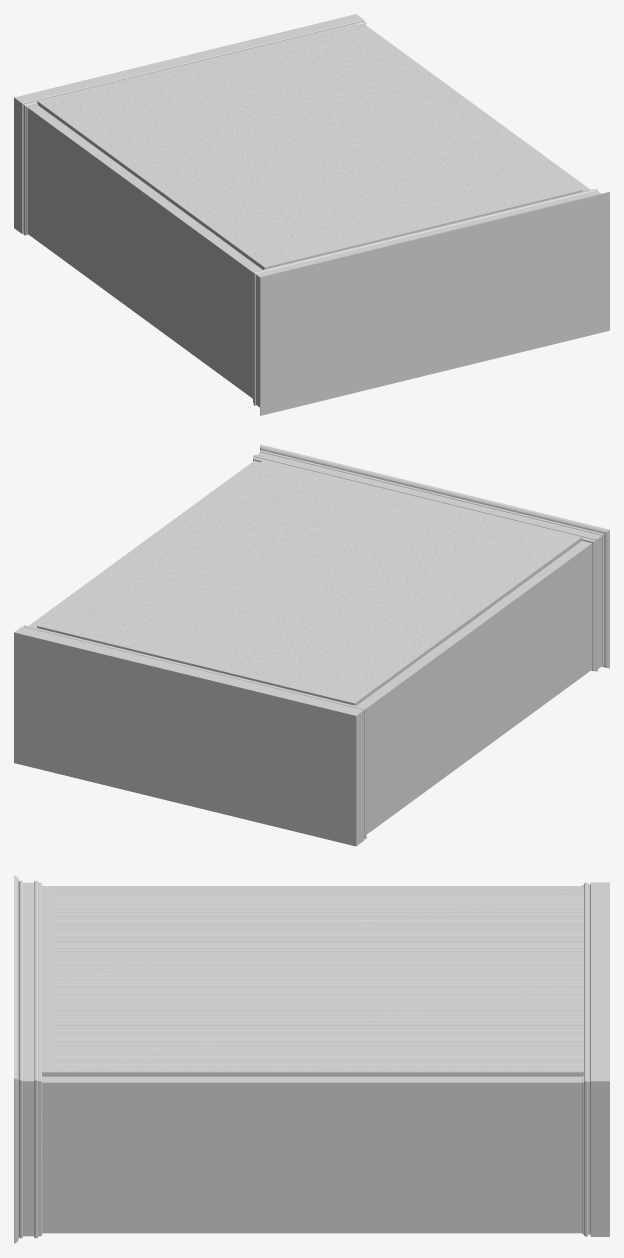
File: wardrobe.glb
3 views of the same model, one above another, from view 1: azimuth 30°, elevation 25°; view 2: azimuth 150°, elevation 25°; view 3: azimuth 270°, elevation 25° (orthographic). The views are drawn at different scales.
Visible parts, largest first — view 1: DOLFI 3072_Wardrobe N100925; view 2: DOLFI 3072_Wardrobe N100925; view 3: DOLFI 3072_Wardrobe N100925.
Boxes of the visible parts, <box> form: DOLFI 3072_Wardrobe N100925: <box>14,14,609,415</box>; DOLFI 3072_Wardrobe N100925: <box>14,444,609,846</box>; DOLFI 3072_Wardrobe N100925: <box>14,875,609,1243</box>.
Bounding box in the file's own units: 0.1736 × 0.073 × 0.2152.
Materials: 12 (10 with a texture image).
